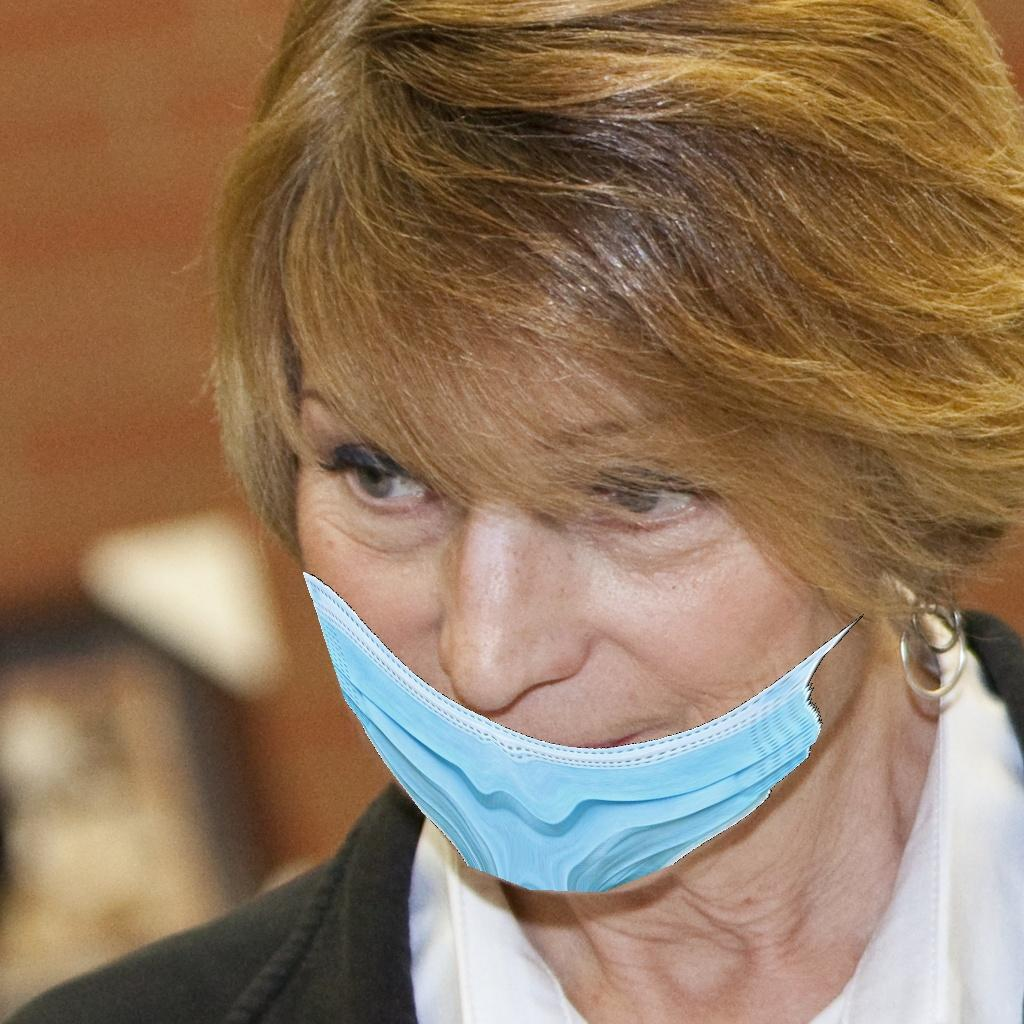Máscara Incorreta: (289, 352, 841, 895)
